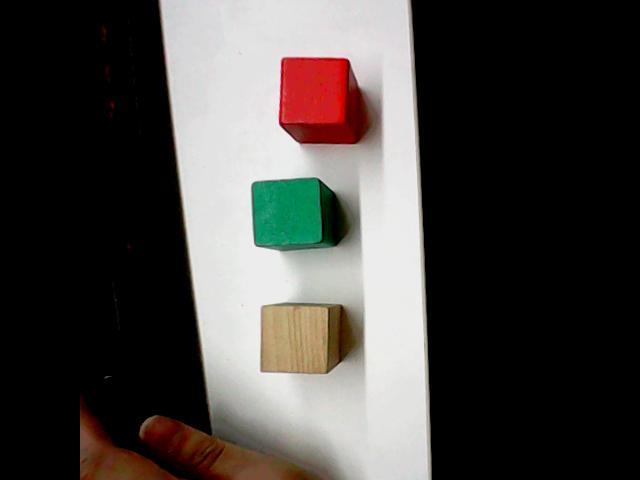green_box: (247, 174, 341, 253)
raw_box: (256, 300, 345, 377)
red_box: (273, 53, 363, 147)
